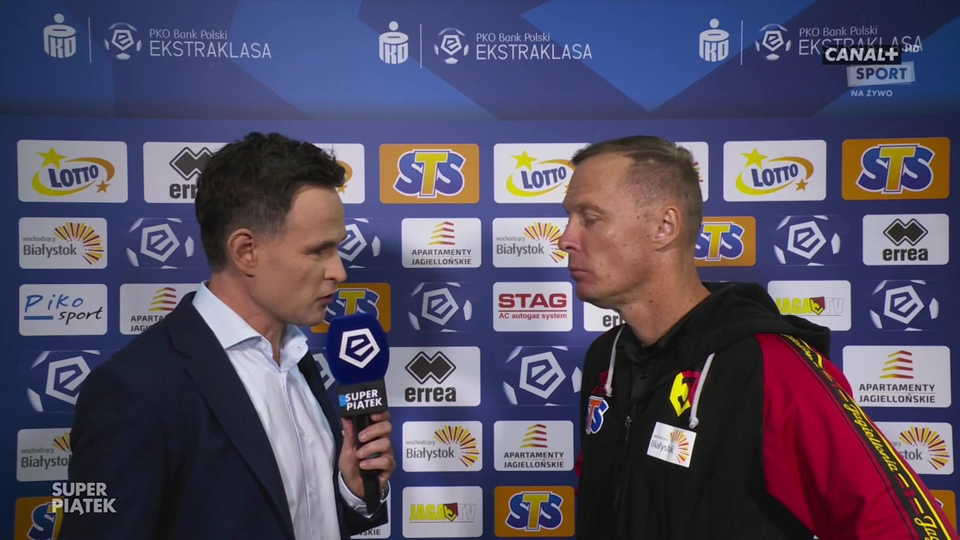pko: (374, 19, 411, 66), (43, 13, 79, 59), (696, 17, 730, 65)
